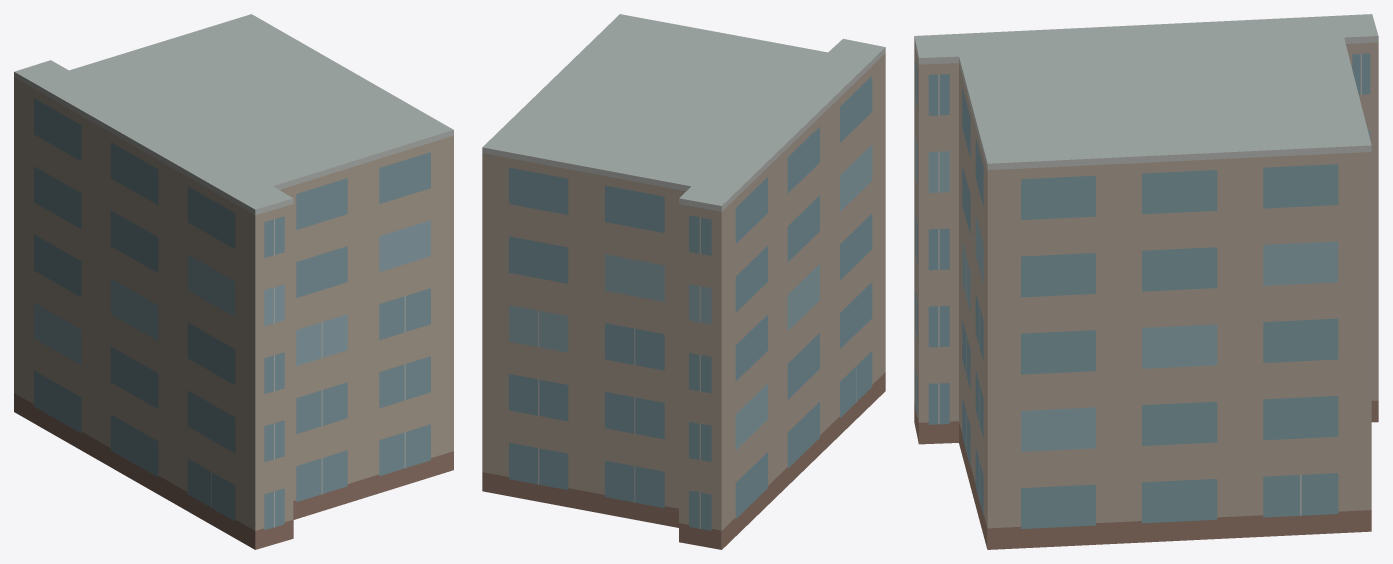
The model's file is survey-upis-32699120.glb.
The picture shows the model from 3 angles, left to right: view 1: azimuth 30°, elevation 25°; view 2: azimuth 150°, elevation 25°; view 3: azimuth 270°, elevation 25°; orthographic projection. The views are drawn at different scales.
Visible parts, largest first — view 1: survey-upis-32699120.tmp; view 2: survey-upis-32699120.tmp; view 3: survey-upis-32699120.tmp.
Part boxes in pixels (bbox=[...]): survey-upis-32699120.tmp: bbox=[14, 14, 453, 549]; survey-upis-32699120.tmp: bbox=[482, 14, 885, 549]; survey-upis-32699120.tmp: bbox=[914, 14, 1378, 549].
Size of the model in its own units: 12.07 by 14.5 by 15.8.
